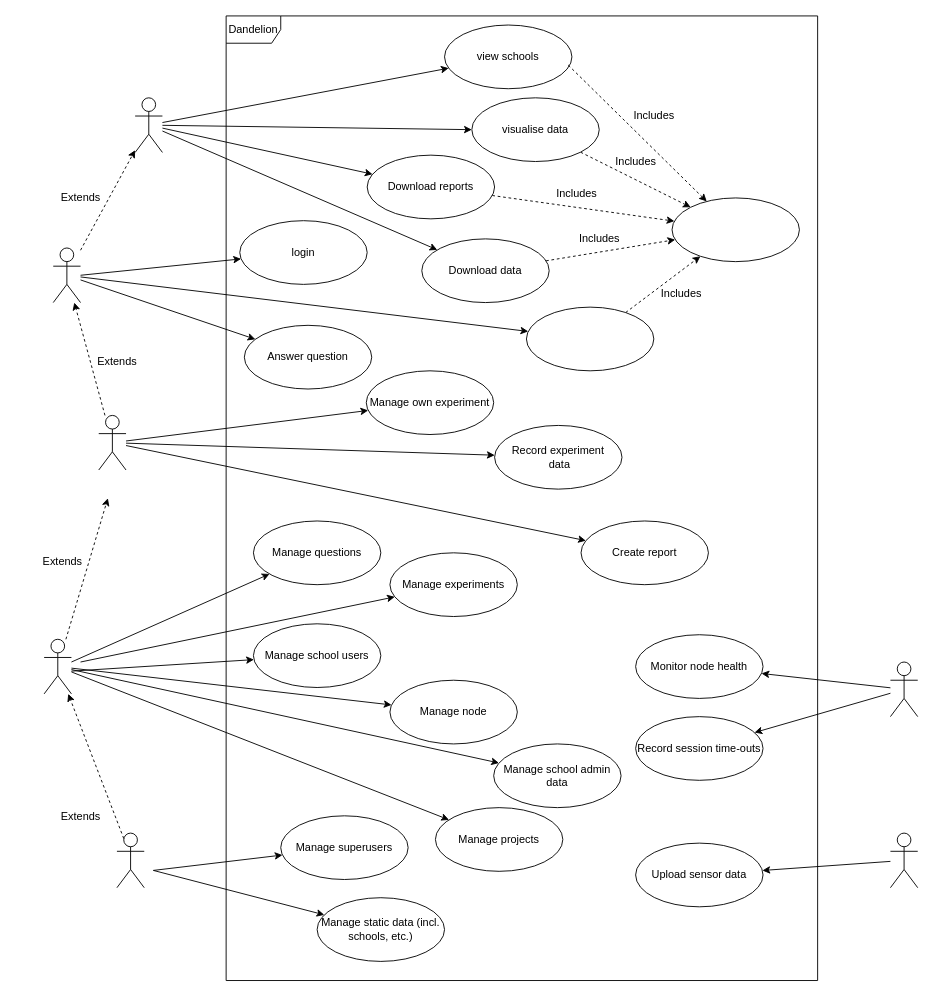
Image size: 938x996. Some labels were removed from this diagram. Each missing label, with the centre of its shape:
"Experiment participant" goes at [112,442].
"Node" goes at [904,860].
"Public" goes at [148,124].
"School superuser" goes at [57,666].
"School user" goes at [66,275].
"search/browse" goes at [735,229].
"Sysadmin" goes at [130,860].
"System" goes at [904,689].
"view school project details" goes at [590,338].
